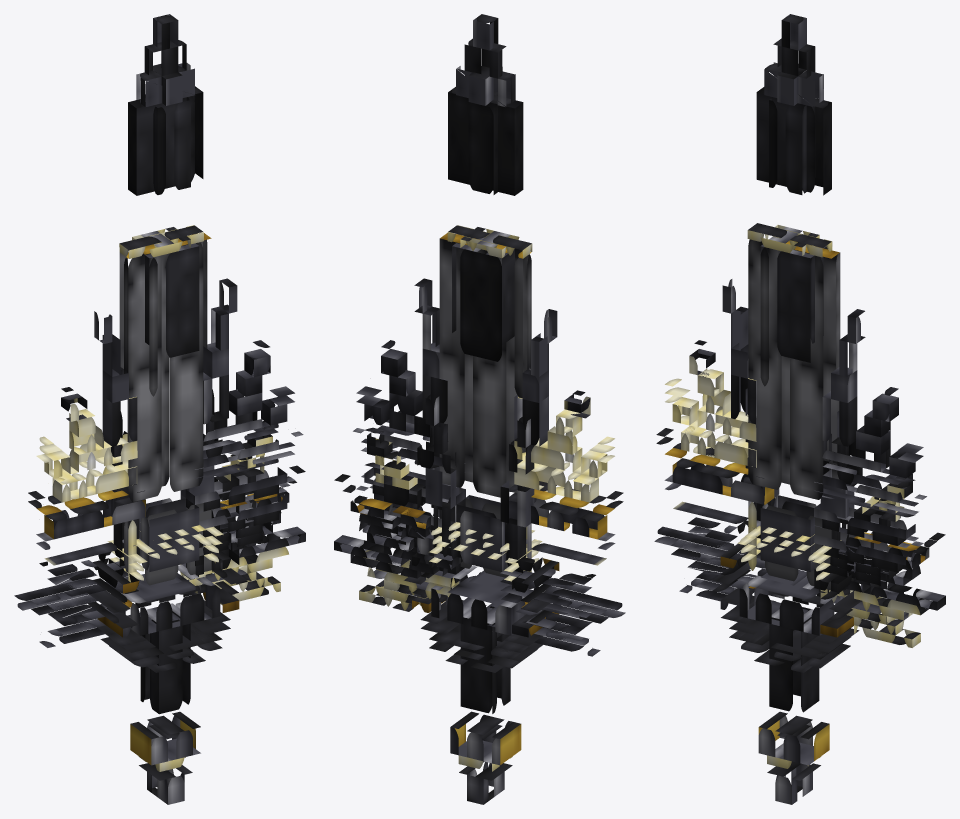
Rendered from seraph_blade.obj.
3 views of the same model, side by side, from view 1: azimuth 30°, elevation 25°; view 2: azimuth 150°, elevation 25°; view 3: azimuth 330°, elevation 25° (orthographic).
Visible parts, largest first — view 1: lit, fire; view 2: lit, fire; view 3: lit, fire.
Boxes of the visible parts, x1,y1,x2,y2 form: lit: [14, 14, 305, 804]; fire: [88, 525, 247, 672]; lit: [334, 14, 625, 804]; fire: [404, 522, 560, 672]; lit: [654, 14, 945, 804]; fire: [712, 526, 869, 672].
Size of the model in its own units: 1.06 by 2.78 by 0.2.
